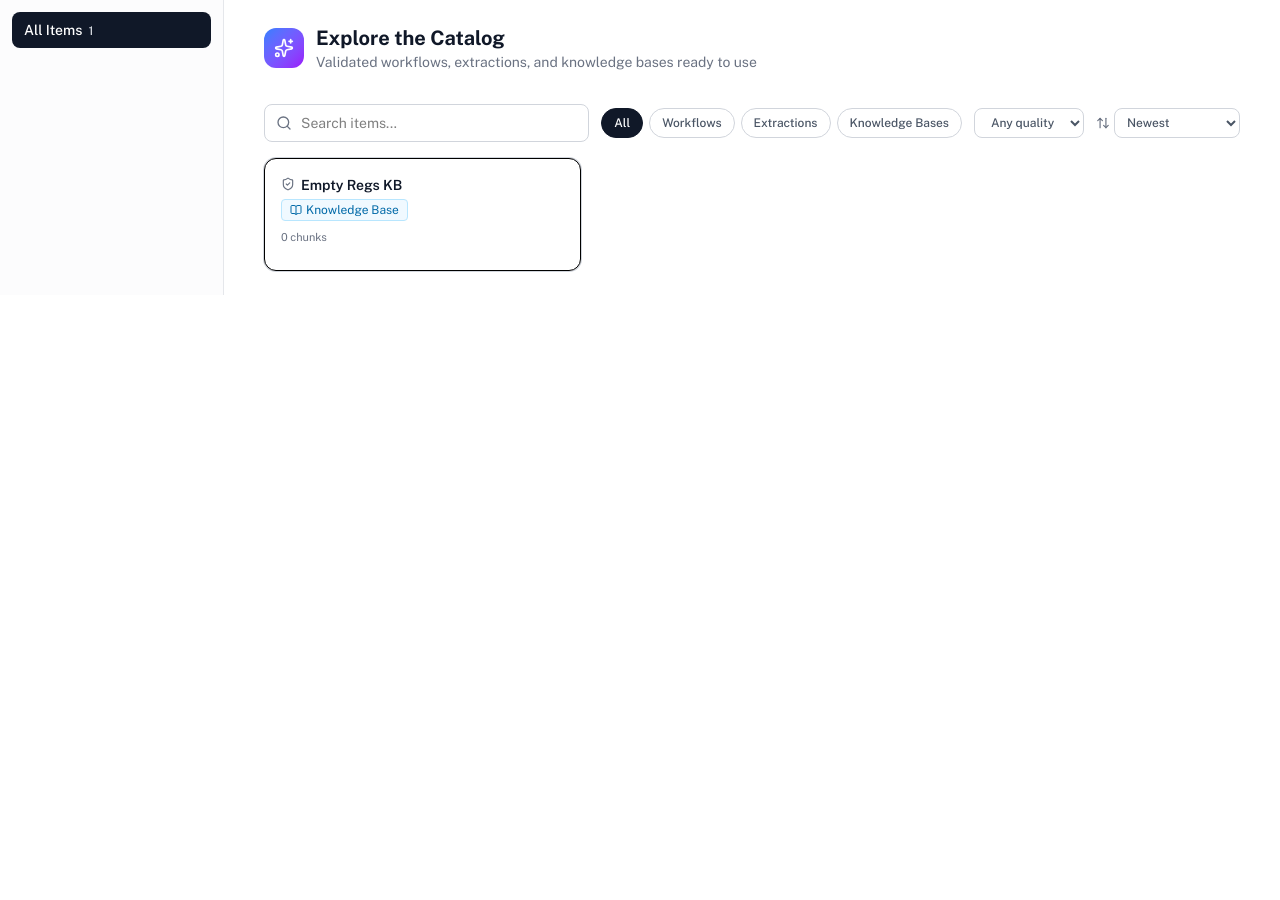
ExploreTab open navigation › disables Open in Chat for a knowledge base with zero indexed chunks
What coordinates should you click on to do the following:
click the text "Empty Regs KB"
I would click on:
 (357, 185)
Its box is [301, 175, 414, 195].
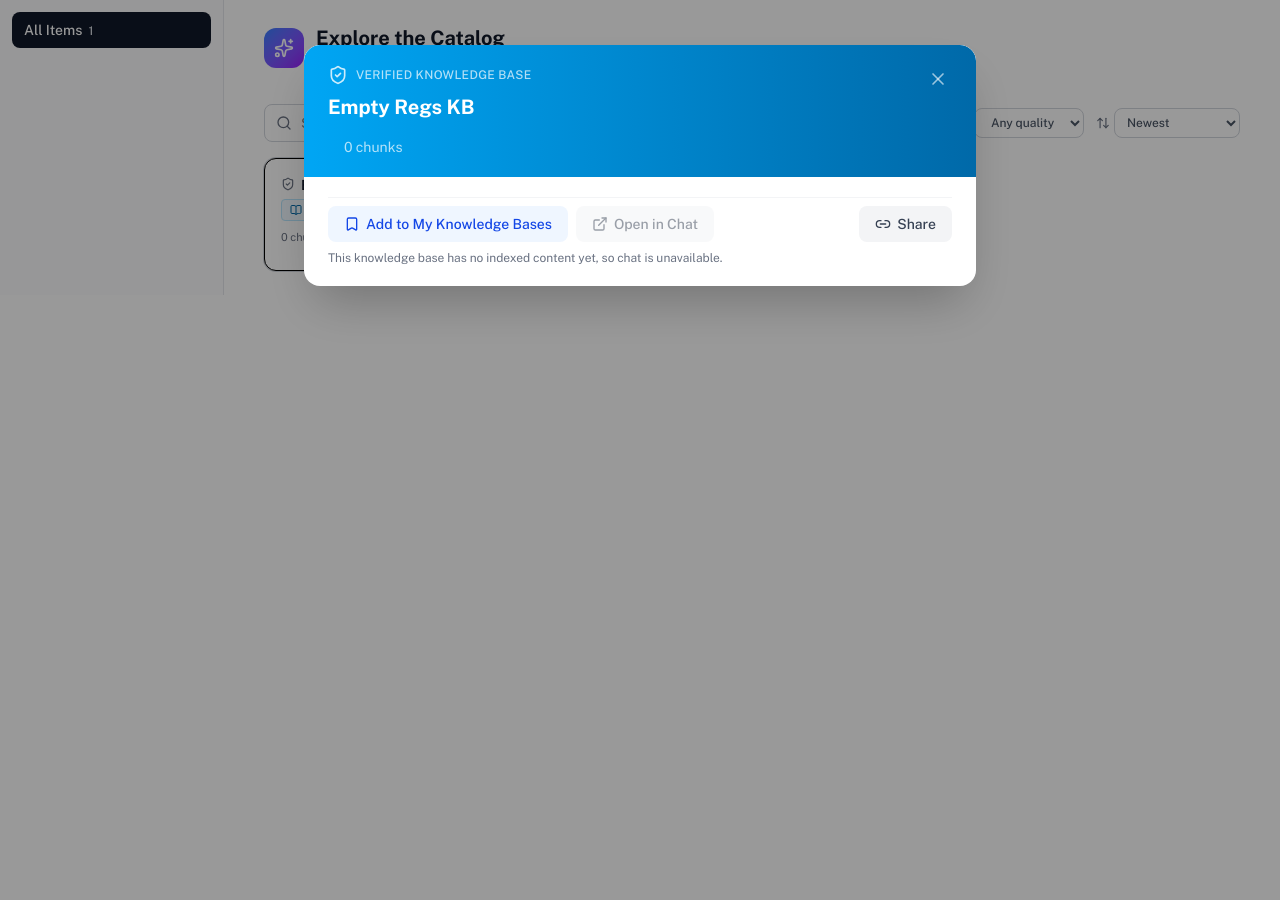
expect the button "Open in Chat" is disabled: met, box [576, 206, 714, 242]
expect the text "no indexed content yet" is shown: met, box [328, 251, 722, 265]
